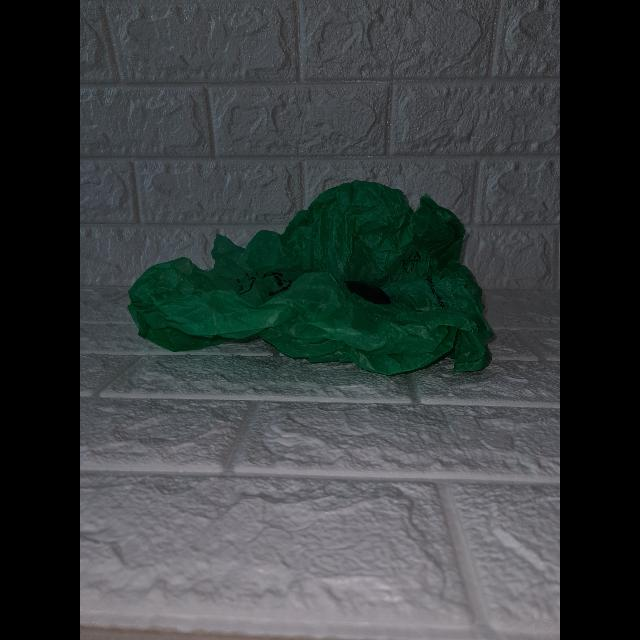plastic_bag: (124, 179, 496, 381)
